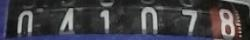digits: (140, 6, 159, 40), (95, 8, 114, 39), (16, 10, 35, 40), (60, 7, 77, 40), (182, 8, 198, 40), (218, 8, 236, 36)
